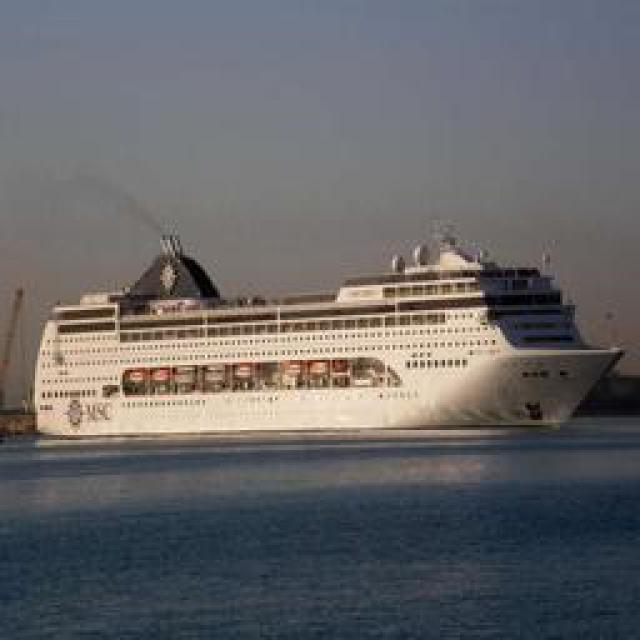Ship: (41, 220, 626, 440)
